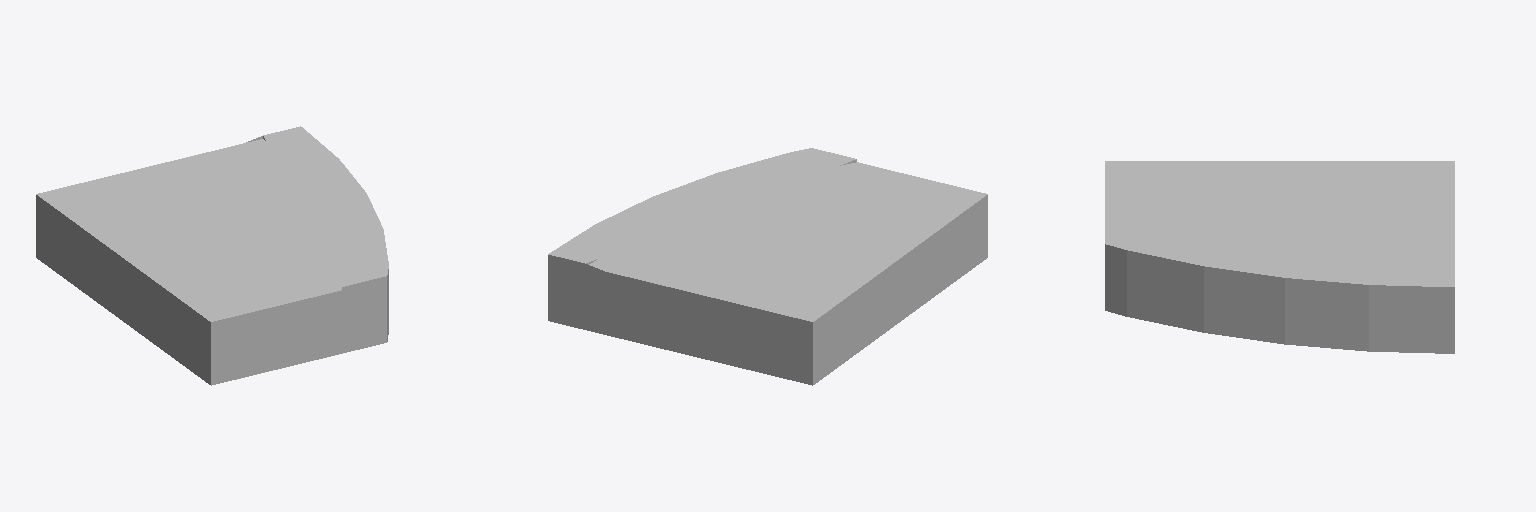
File: roadTile_114.obj
The picture shows the model from 3 angles: view 1: azimuth 30°, elevation 25°; view 2: azimuth 150°, elevation 25°; view 3: azimuth 270°, elevation 25°; orthographic projection.
Visible parts, largest first — view 1: Mesh1 Group1 Model; view 2: Mesh1 Group1 Model; view 3: Mesh1 Group1 Model.
Boxes of the visible parts, x1,y1,x2,y2 form: Mesh1 Group1 Model: [36, 126, 388, 385]; Mesh1 Group1 Model: [548, 148, 987, 385]; Mesh1 Group1 Model: [1105, 161, 1454, 353].
Size of the model in its own units: 2.62 by 0.63 by 3.